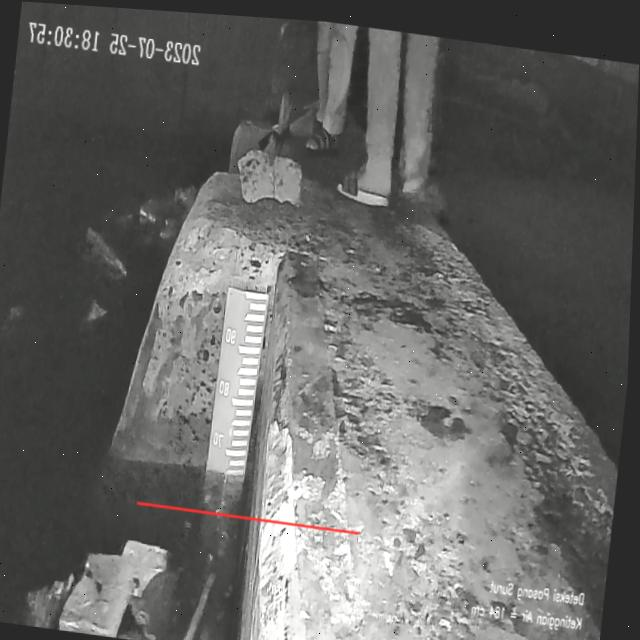water-meter: (193, 276, 275, 510)
